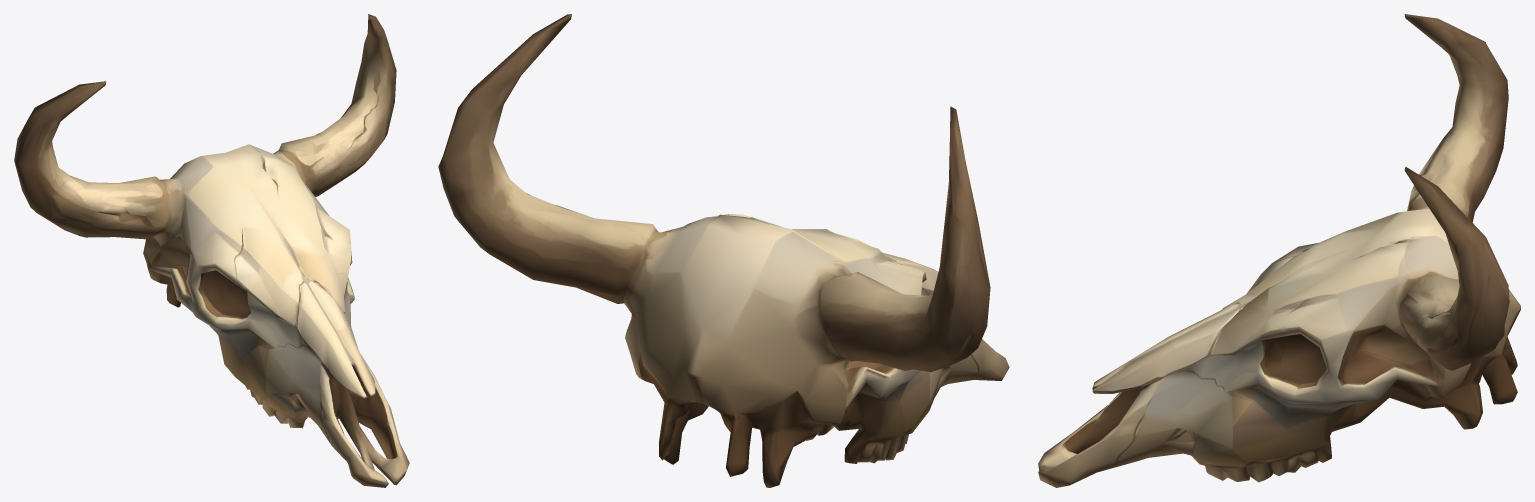
The picture shows the model from 3 angles, left to right: view 1: azimuth 30°, elevation 25°; view 2: azimuth 150°, elevation 25°; view 3: azimuth 270°, elevation 25°; orthographic projection. The views are drawn at different scales.
Visible parts, largest first — view 1: desert-skull; view 2: desert-skull; view 3: desert-skull.
Part boxes in pixels (x1=…): desert-skull: x1=14, y1=14, x2=409, y2=487; desert-skull: x1=438, y1=14, x2=1009, y2=487; desert-skull: x1=1038, y1=14, x2=1520, y2=487.
Size of the model in its own units: 1 by 0.82 by 0.9256.
Materials: 1 (1 with a texture image).
